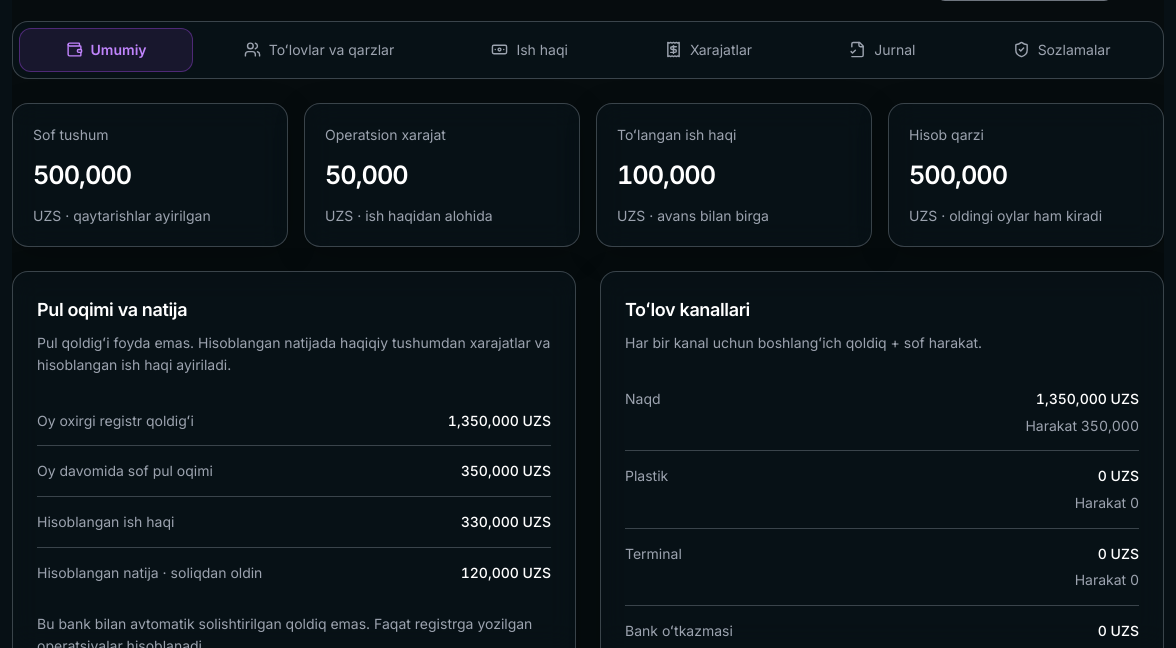
Test: finance admin workspace › starts a payment from an invoice and focuses the editable remaining amount
Click the button "Toʻlovlar va qarzlar".
click(319, 50)  # box [197,28,441,72]
(page scrolled)
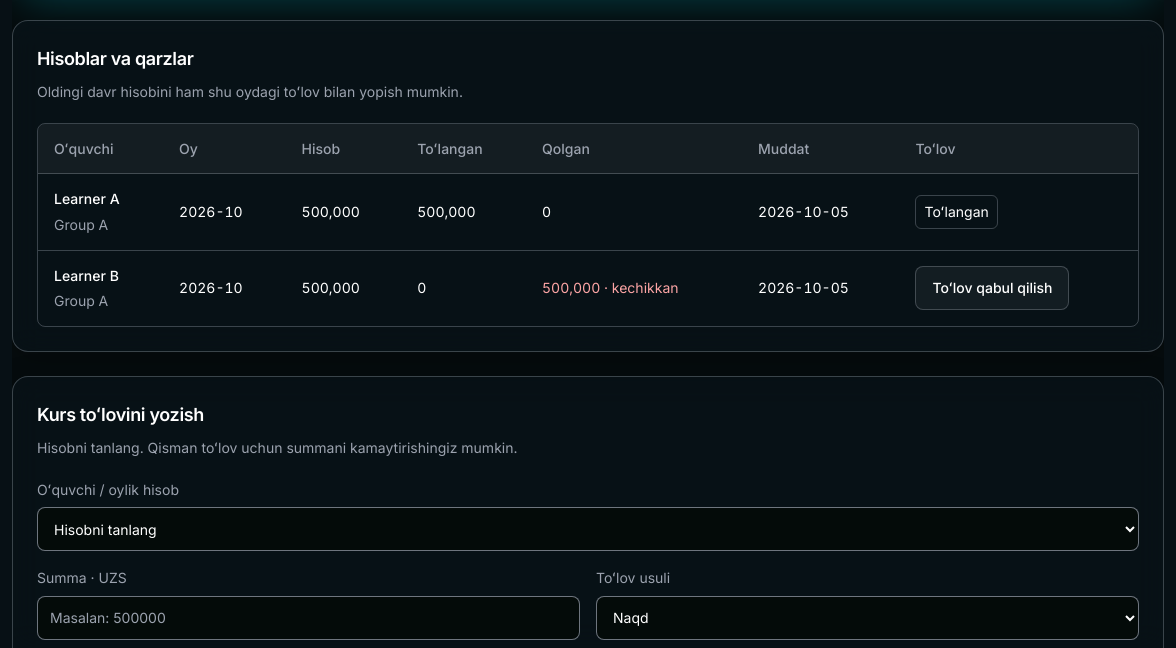
Click the button "Toʻlov qabul qilish".
click(992, 288)  # box [916,266,1070,310]
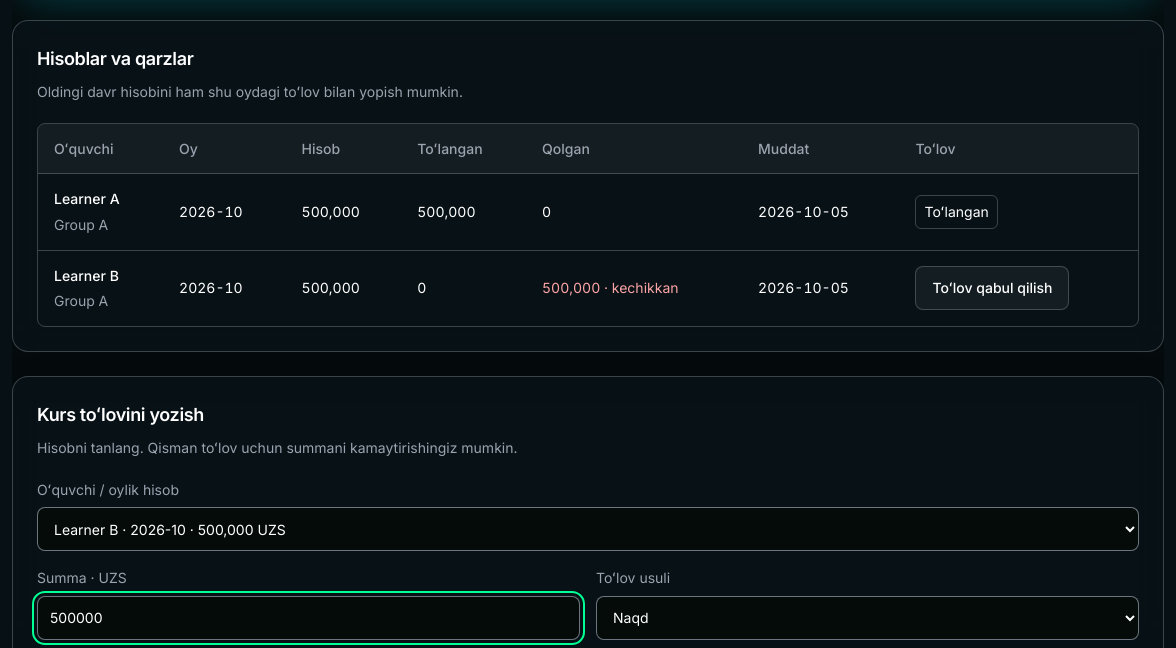
Expected: the dropdown named "invoiceId" shows "Learner B · 2026-10 · 500,000 UZS", [37,507,1139,551]
Expected: the field named "amount" holds "500000", [37,596,580,640]
